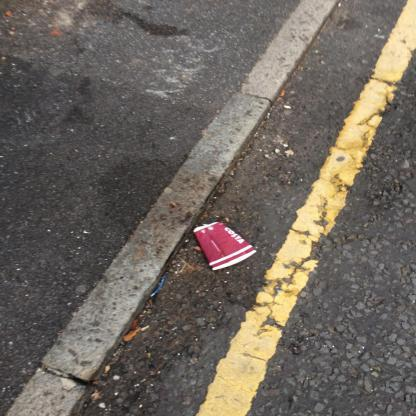karton: (195, 222, 259, 272)
